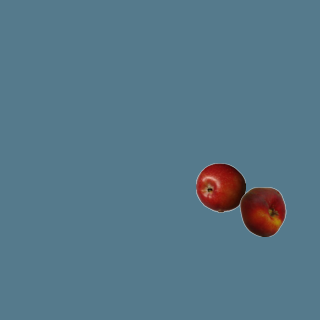Apple Braeburn: (195, 162, 245, 212)
Nectarine Flat: (237, 186, 287, 236)
